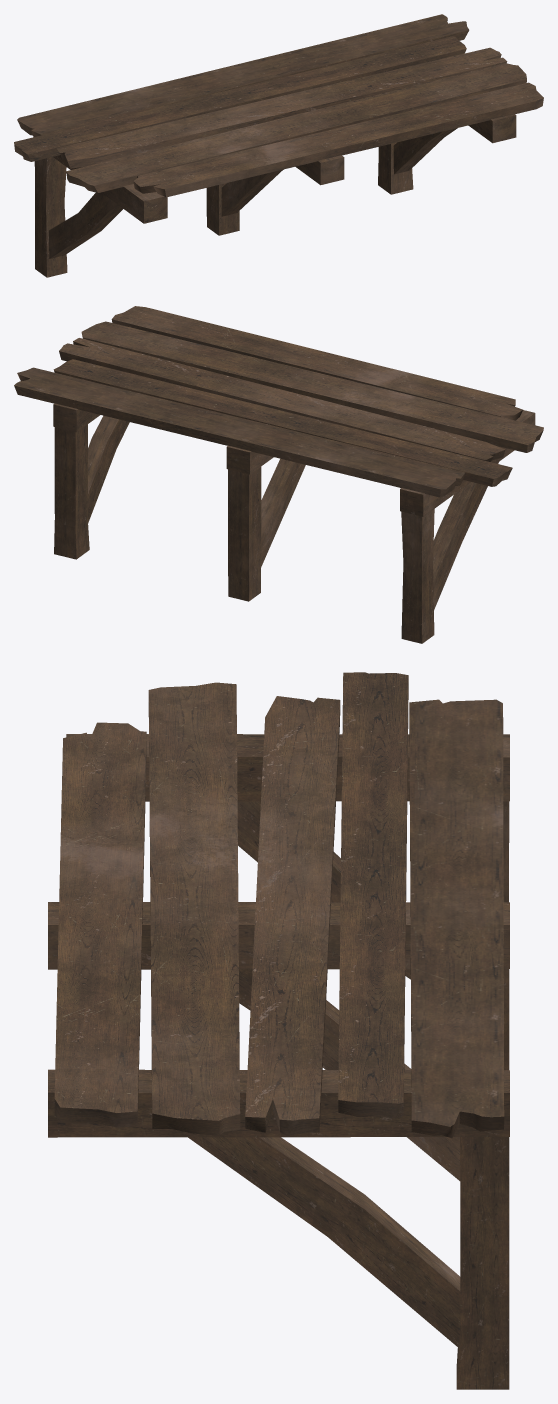
The model's file is SM_Scaffolding_03.fbx.
3 renders of one model, top to bottom at view 1: azimuth 30°, elevation 25°; view 2: azimuth 150°, elevation 25°; view 3: azimuth 270°, elevation 25°, orthographic. The views are drawn at different scales.
Visible parts, largest first — view 1: SM_Scaffolding_03_LOD0; view 2: SM_Scaffolding_03_LOD0; view 3: SM_Scaffolding_03_LOD0.
Part boxes in pixels (x1,y1,x2,y2): SM_Scaffolding_03_LOD0: [14, 14, 543, 277]; SM_Scaffolding_03_LOD0: [14, 306, 543, 643]; SM_Scaffolding_03_LOD0: [48, 672, 509, 1389].
Size of what is drawn, in the model's own units: 389 by 125 by 167.
